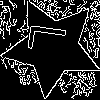L: (27, 22, 76, 56)
